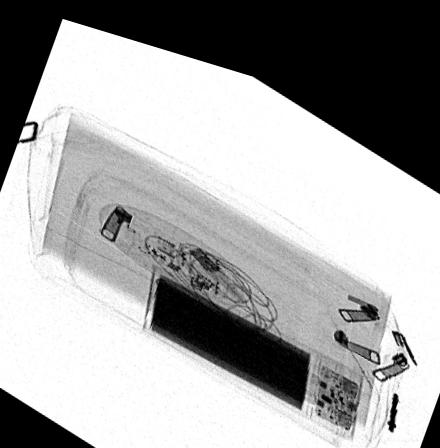Powerbank: (143, 253, 364, 420)
